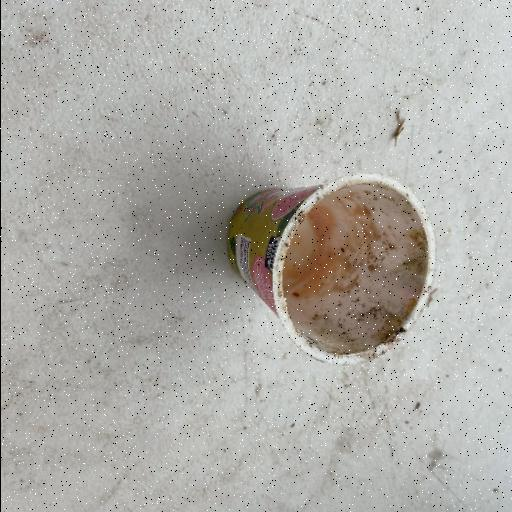Plastic: (224, 170, 438, 366)
